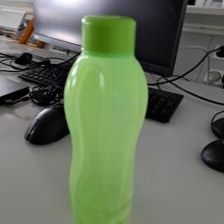bottle: (61, 12, 149, 221)
